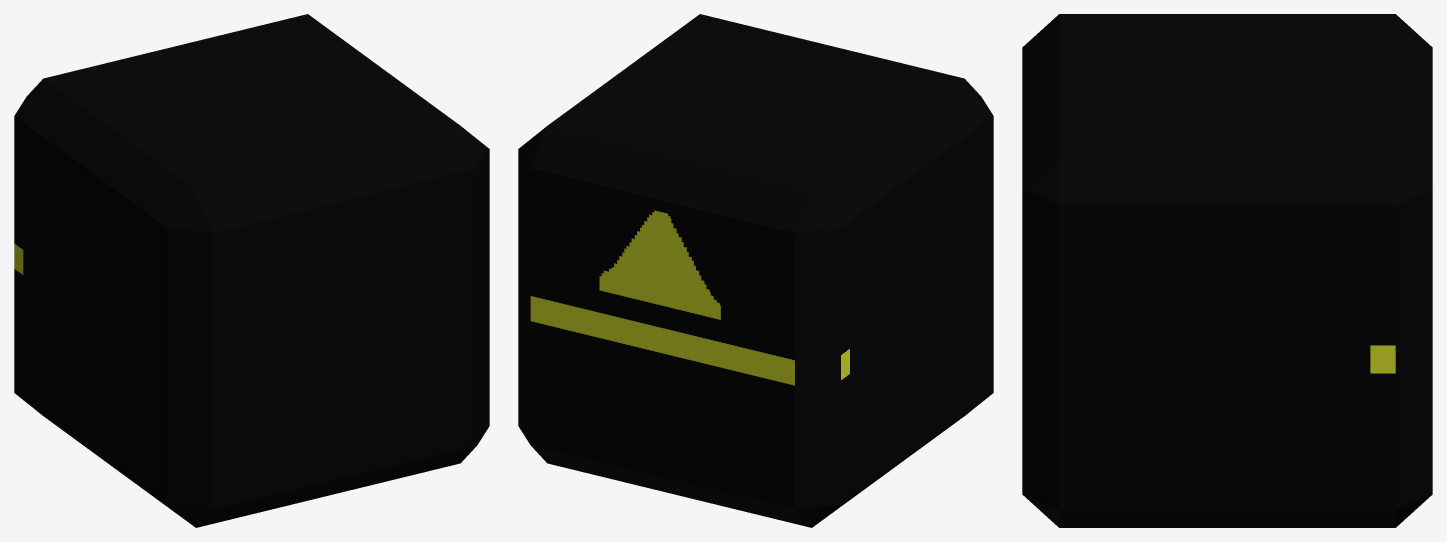
Rendered from supplyBlockBevel.obj.
The picture shows the model from 3 angles, left to right: view 1: azimuth 30°, elevation 25°; view 2: azimuth 150°, elevation 25°; view 3: azimuth 270°, elevation 25°; orthographic projection. The views are drawn at different scales.
Parts seen in each view (by area): view 1: BevelWall; view 2: BevelWall; view 3: BevelWall.
Part boxes in pixels (x1=…): BevelWall: x1=14, y1=14, x2=489, y2=527; BevelWall: x1=518, y1=14, x2=993, y2=527; BevelWall: x1=1022, y1=14, x2=1432, y2=527.
Size of the model in its own units: 2 by 2 by 2.
1 material, 1 textured.
